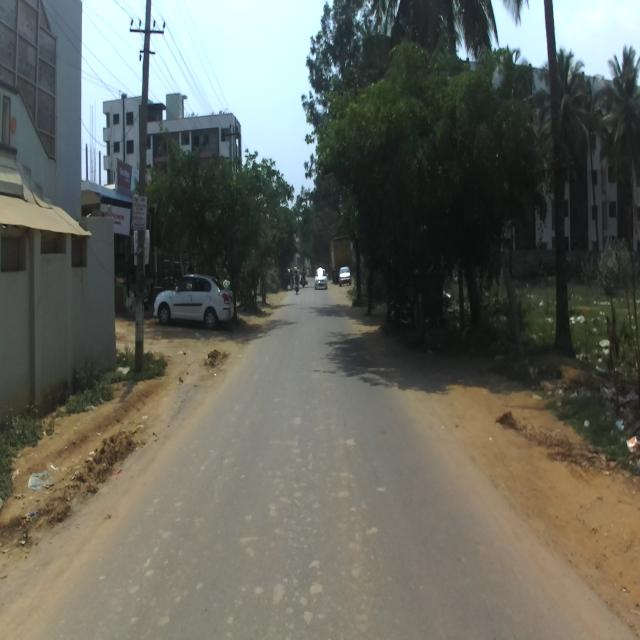car ahead at: (156, 271, 233, 336)
electric pole ahead at: (126, 0, 166, 374)
tree ahead at: (422, 86, 516, 342)
